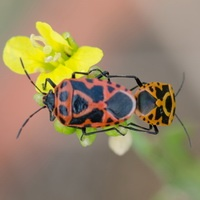insect: (16, 58, 191, 146), (72, 69, 171, 124)
